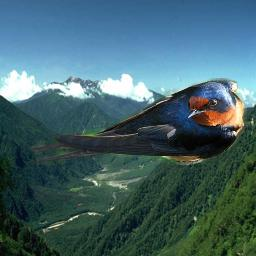Swallow: (30, 78, 247, 165)
